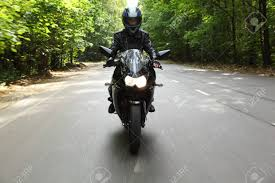bike: (94, 10, 172, 161)
